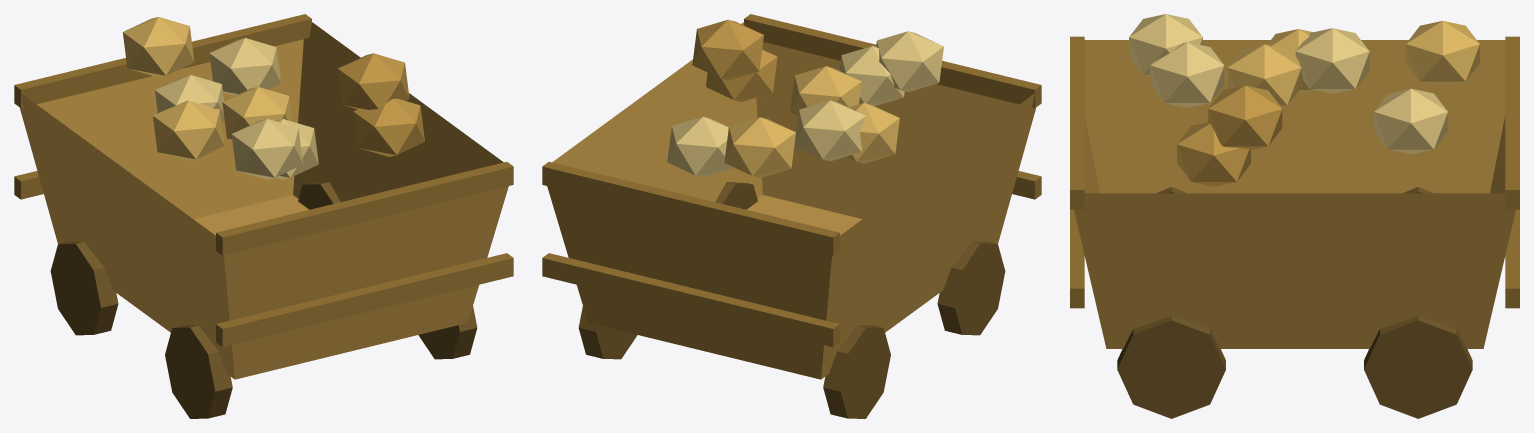
The model's file is minecart.glb.
3 renders of one model, left to right at view 1: azimuth 30°, elevation 25°; view 2: azimuth 150°, elevation 25°; view 3: azimuth 270°, elevation 25°, orthographic. The views are drawn at different scales.
Visible parts, largest first — view 1: cart tub, cart band, cart band.002, cart band.003, cart wheel.003, cart wheel.002, gold ore.006, gold ore.005, gold ore.007, gold ore.004, gold ore.008, gold ore (+6 smaller); view 2: cart tub, cart band.001, cart band.003, cart band.002, cart wheel.002, cart wheel.003, gold ore.006, gold ore.008, gold ore.002, gold ore.005, gold ore, gold ore.001 (+6 smaller); view 3: cart tub, cart wheel.004, cart wheel.005, gold ore.006, gold ore, gold ore.008, gold ore.002, gold ore.003, gold ore.004, gold ore.001, gold ore.005, cart band.002 (+4 smaller).
Part boxes in pixels (<box>): cart tub: <box>19,22,508,379</box>; cart band: <box>216,253,513,347</box>; cart band.002: <box>216,161,513,255</box>; cart band.003: <box>14,14,311,107</box>; cart wheel.003: <box>50,241,118,335</box>; cart wheel.002: <box>165,325,232,418</box>; gold ore.006: <box>122,17,194,77</box>; gold ore.005: <box>231,118,303,179</box>; gold ore.007: <box>153,100,224,161</box>; gold ore.004: <box>353,98,424,156</box>; gold ore.008: <box>338,53,409,109</box>; gold ore: <box>209,38,280,95</box>; cart tub: <box>547,22,1036,379</box>; cart band.001: <box>542,253,839,347</box>; cart band.003: <box>542,161,839,255</box>; cart band.002: <box>744,14,1041,107</box>; cart wheel.002: <box>937,241,1005,335</box>; cart wheel.003: <box>823,325,890,418</box>; gold ore.006: <box>724,117,795,177</box>; gold ore.008: <box>692,19,763,80</box>; gold ore.002: <box>794,100,865,161</box>; gold ore.005: <box>876,31,943,91</box>; gold ore: <box>667,116,734,177</box>; gold ore.001: <box>790,66,861,115</box>; cart tub: <box>1074,40,1515,348</box>; cart wheel.004: <box>1117,316,1225,418</box>; cart wheel.005: <box>1364,316,1472,418</box>; gold ore.006: <box>1406,21,1479,86</box>; gold ore: <box>1374,88,1447,154</box>; gold ore.008: <box>1208,85,1282,149</box>; gold ore.002: <box>1295,28,1369,93</box>; gold ore.003: <box>1150,42,1224,107</box>; gold ore.004: <box>1177,122,1250,186</box>; gold ore.001: <box>1227,44,1301,106</box>; gold ore.005: <box>1129,14,1202,76</box>; cart band.002: <box>1070,36,1084,209</box>.
Size of the model in its own units: 0.5 by 0.4718 by 0.62.
